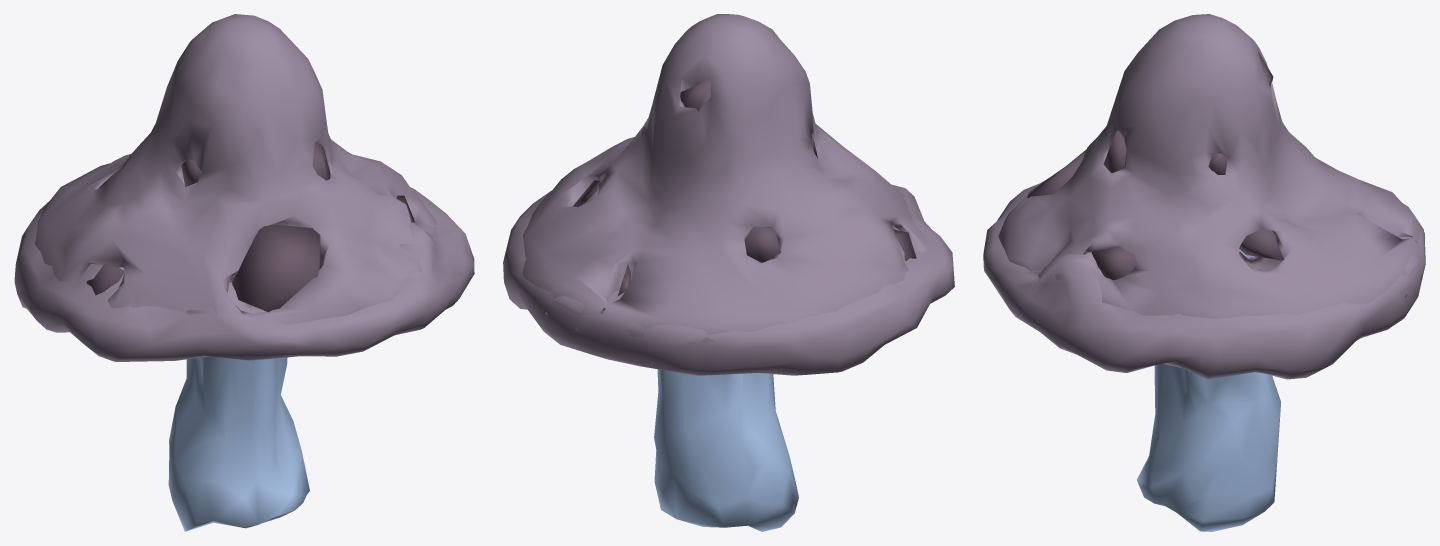
Rendered from shroom.glb.
3 renders of one model, left to right at view 1: azimuth 30°, elevation 25°; view 2: azimuth 150°, elevation 25°; view 3: azimuth 270°, elevation 25°, orthographic.
Parts seen in each view (by area): view 1: head; view 2: head; view 3: head.
Boxes of the visible parts, x1=… form: head: x1=14, y1=14, x2=474, y2=531; head: x1=503, y1=14, x2=954, y2=531; head: x1=983, y1=14, x2=1425, y2=531.
Size of the model in its own units: 1.76 by 2.1 by 1.72.
